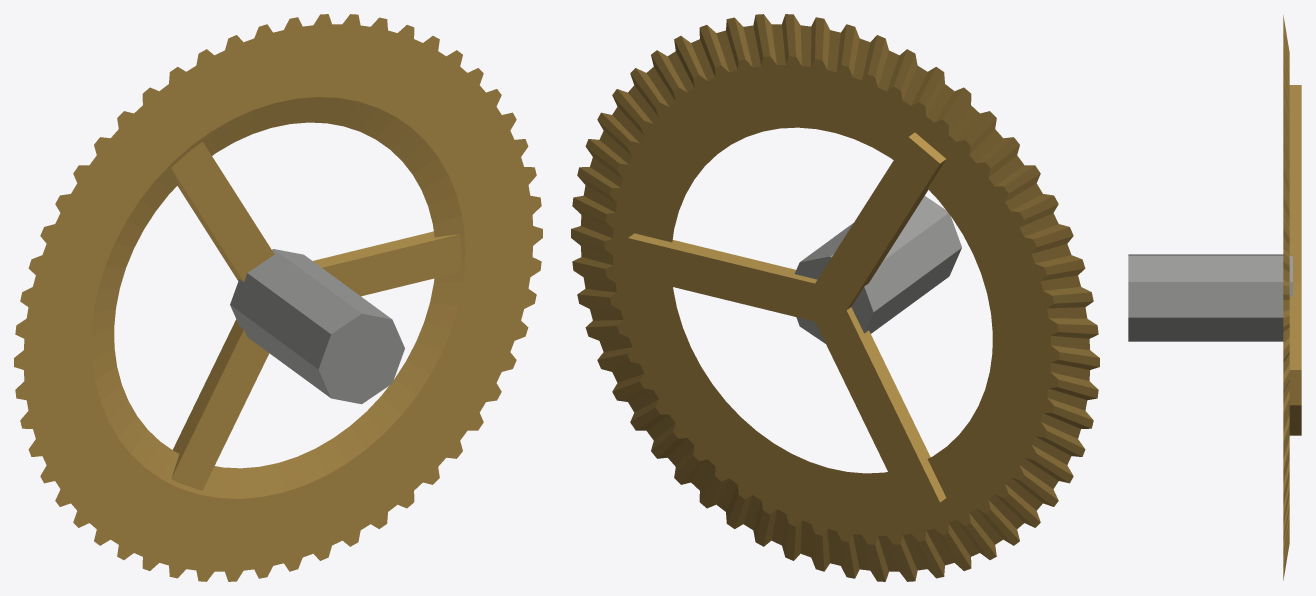
The model's file is FixedBevel.glb.
The picture shows the model from 3 angles, left to right: view 1: azimuth 30°, elevation 25°; view 2: azimuth 150°, elevation 25°; view 3: azimuth 270°, elevation 25°; orthographic projection. The views are drawn at different scales.
Parts seen in each view (by area): view 1: FixedBevel; view 2: FixedBevel; view 3: FixedBevel.
Boxes of the visible parts, left/top/right/bottom form: FixedBevel: left=14, top=14, right=542, bottom=581; FixedBevel: left=571, top=14, right=1099, bottom=581; FixedBevel: left=1128, top=15, right=1301, bottom=580.
Bounding box in the file's own units: 0.2931 × 0.2929 × 0.0895.
